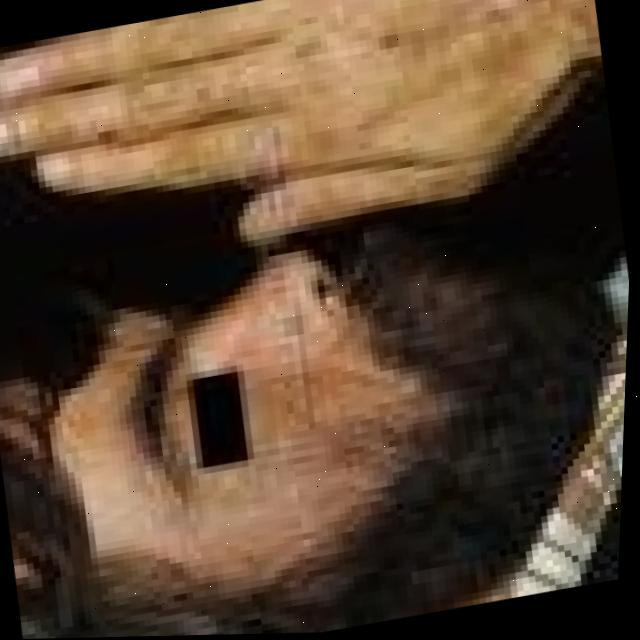Melasma: (282, 412, 395, 503), (471, 0, 561, 42)
